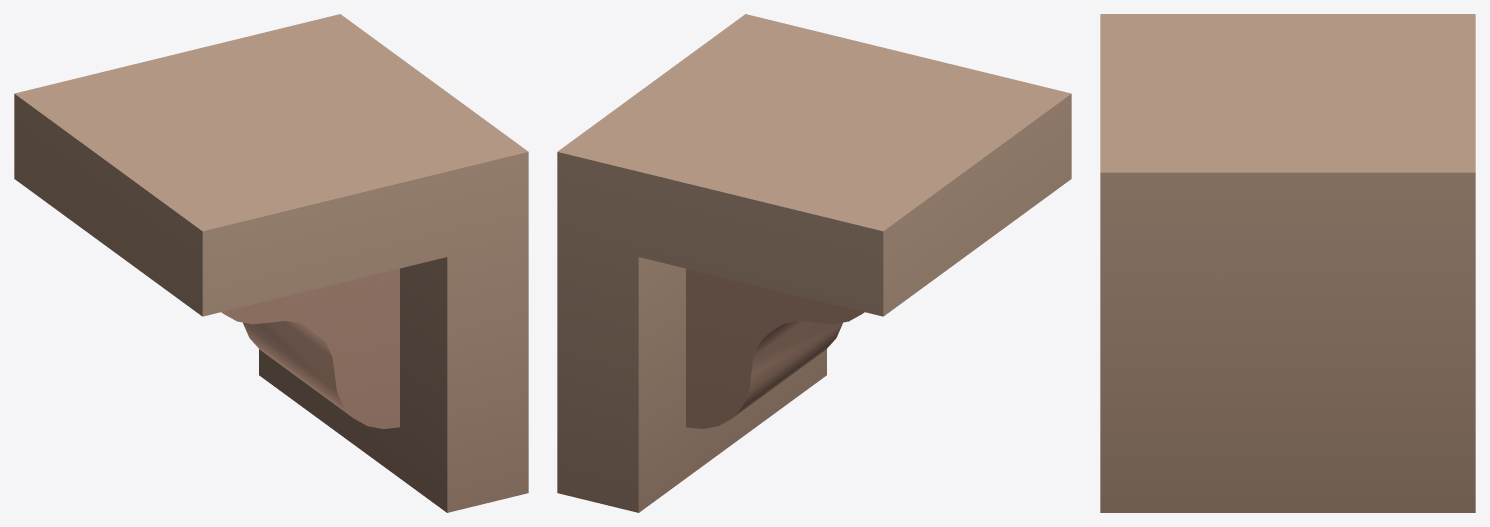
Rendered from corner-detailed-d.glb.
3 views of the same model, side by side, from view 1: azimuth 30°, elevation 25°; view 2: azimuth 150°, elevation 25°; view 3: azimuth 270°, elevation 25° (orthographic).
Parts seen in each view (by area): view 1: corner-detailed-d; view 2: corner-detailed-d; view 3: corner-detailed-d.
Part boxes in pixels (box(x1,y1,x2,y2)): corner-detailed-d: box(14, 14, 528, 512); corner-detailed-d: box(557, 14, 1071, 512); corner-detailed-d: box(1100, 14, 1475, 512).
Bounding box in the file's own units: 0.2 × 0.2 × 0.2.
